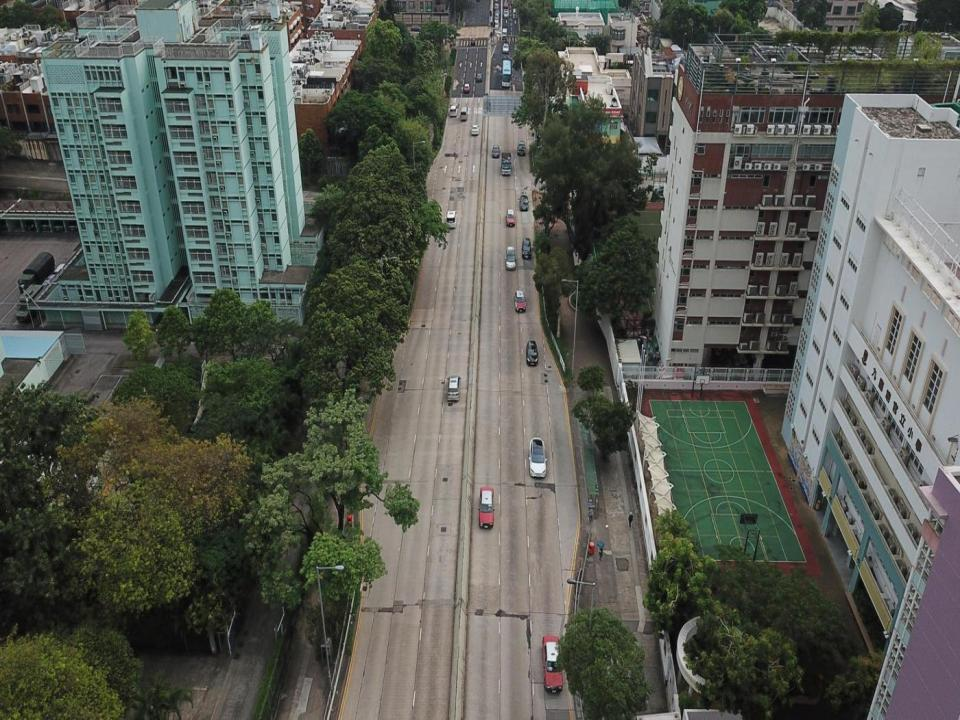bus: (502, 58, 511, 87)
car: (542, 635, 563, 694), (529, 439, 548, 477), (478, 488, 494, 529), (526, 340, 538, 365), (505, 246, 516, 272), (514, 290, 526, 312), (521, 238, 532, 260), (518, 196, 529, 211), (506, 210, 515, 227), (517, 141, 525, 155), (492, 144, 499, 158), (449, 106, 457, 117), (502, 43, 510, 54), (471, 125, 479, 134), (494, 9, 500, 20), (463, 84, 470, 92), (476, 73, 483, 81), (494, 19, 499, 29), (503, 2, 508, 9), (504, 9, 508, 17), (495, 3, 499, 11)
truck: (17, 250, 54, 290), (500, 153, 512, 177)
van: (447, 376, 460, 402), (446, 211, 456, 228), (461, 107, 468, 121), (512, 9, 518, 20), (502, 28, 507, 38)
